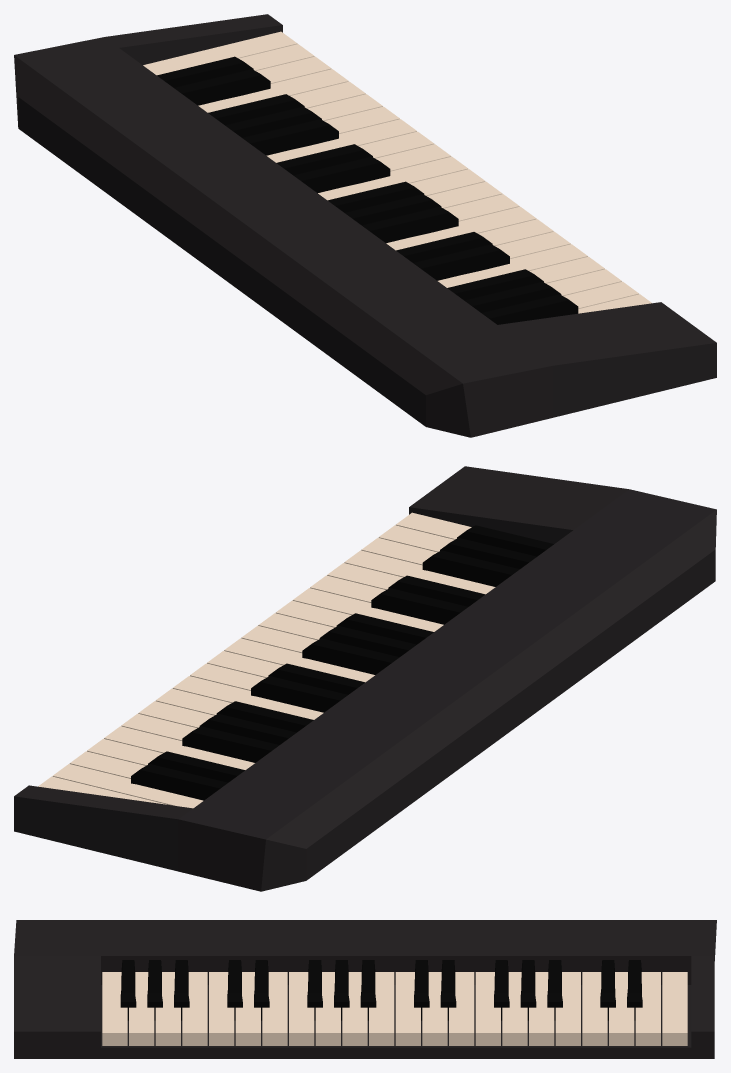
Rendered from 電子ピアノ.fbx.
3 renders of one model, top to bottom at view 1: azimuth 30°, elevation 25°; view 2: azimuth 150°, elevation 25°; view 3: azimuth 270°, elevation 25°, orthographic. The views are drawn at different scales.
Visible parts, largest first — view 1: Cube, 立方体, 立方体.004, 立方体.006, 立方体.002, 立方体.005, 立方体.003, 立方体.007; view 2: Cube, 立方体, 立方体.006, 立方体.004, 立方体.002, 立方体.003, 立方体.005, 立方体.007; view 3: Cube, 立方体, 立方体.006, 立方体.002, 立方体.004, 立方体.005, 立方体.003, 立方体.007.
Part boxes in pixels (x1,y1,x2,y2): Cube: (14, 14, 716, 437); 立方体: (143, 31, 651, 313); 立方体.004: (327, 181, 458, 243); 立方体.006: (208, 94, 338, 155); 立方体.002: (447, 269, 578, 324); 立方体.005: (276, 144, 390, 193); 立方体.003: (396, 232, 509, 280); 立方体.007: (157, 56, 270, 105); Cube: (14, 466, 716, 891); 立方体: (38, 512, 495, 808); 立方体.006: (182, 701, 313, 762); 立方体.004: (302, 613, 433, 674); 立方体.002: (422, 525, 553, 586); 立方体.003: (371, 575, 485, 624); 立方体.005: (251, 663, 364, 712); 立方体.007: (131, 751, 245, 800); Cube: (14, 920, 716, 1058); 立方体: (102, 972, 687, 1045); 立方体.006: (494, 960, 562, 1020); 立方体.002: (120, 960, 189, 1020); 立方体.004: (307, 960, 376, 1020); 立方体.005: (414, 960, 456, 1020); 立方体.003: (227, 960, 269, 1020); 立方体.007: (600, 960, 642, 1020).
Bounding box in the file's own units: 418 × 80.77 × 1207.
